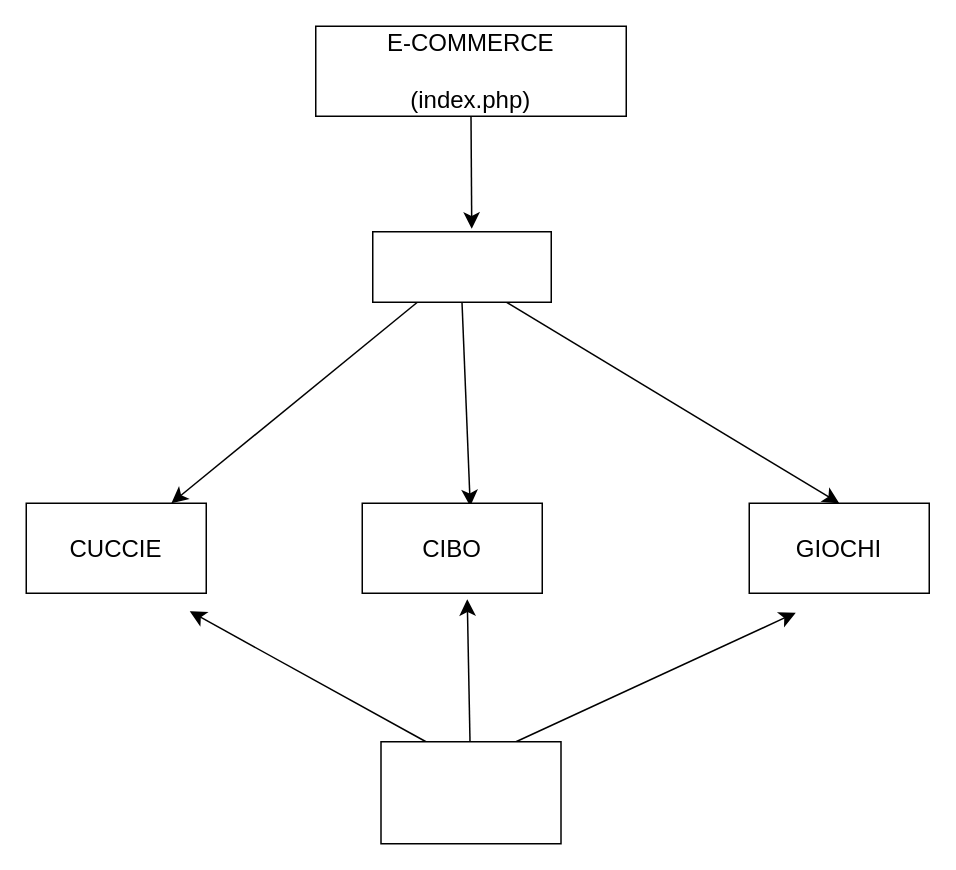
The diagram is 956 pixels wide and 870 high, and some of its shapes have lost their labels. Here are the shapes that lost their labels. From the top down, the centre of each, then its label:
pixel 461 266: PRODOTTI
pixel 470 792: CATEGORIA: cane gatti
